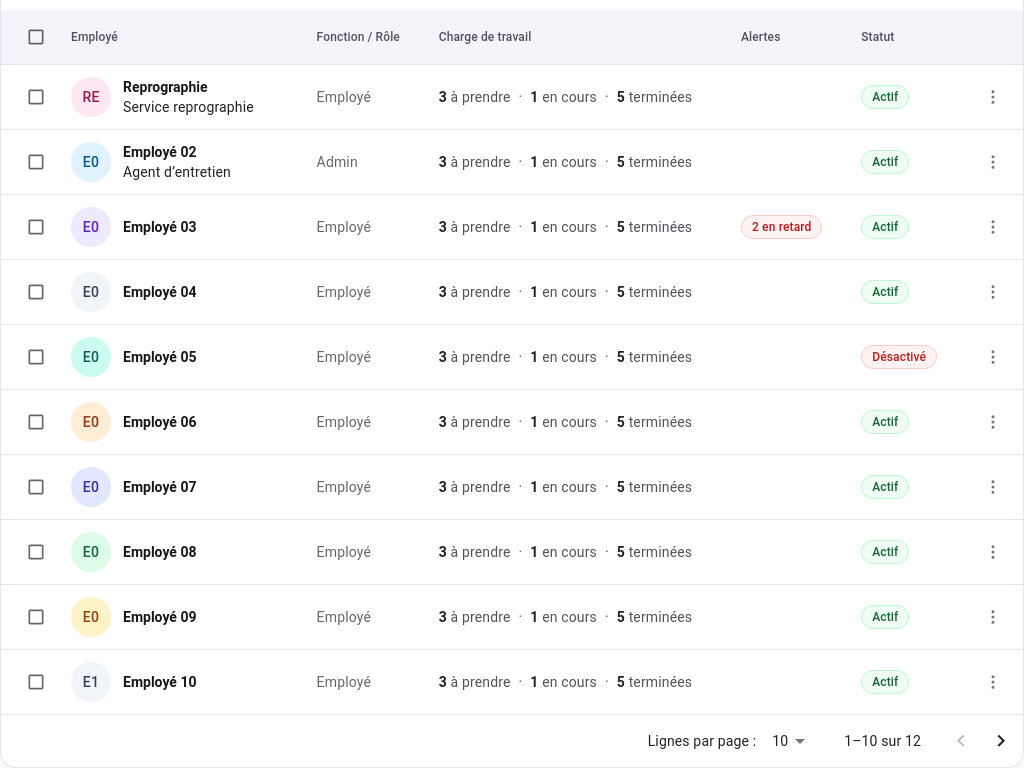
Test case: Onglet « Employés » › pagination en français : 1–10 sur 12, page suivante
(page scrolled)
Expected: the text "1–10 sur 12" is shown, [844, 731, 921, 751]
Expected: the text "Lignes par page :" is shown, [648, 731, 756, 751]
Click the button named "Page suivante" at (1001, 741), box [981, 721, 1021, 761]
(page scrolled)
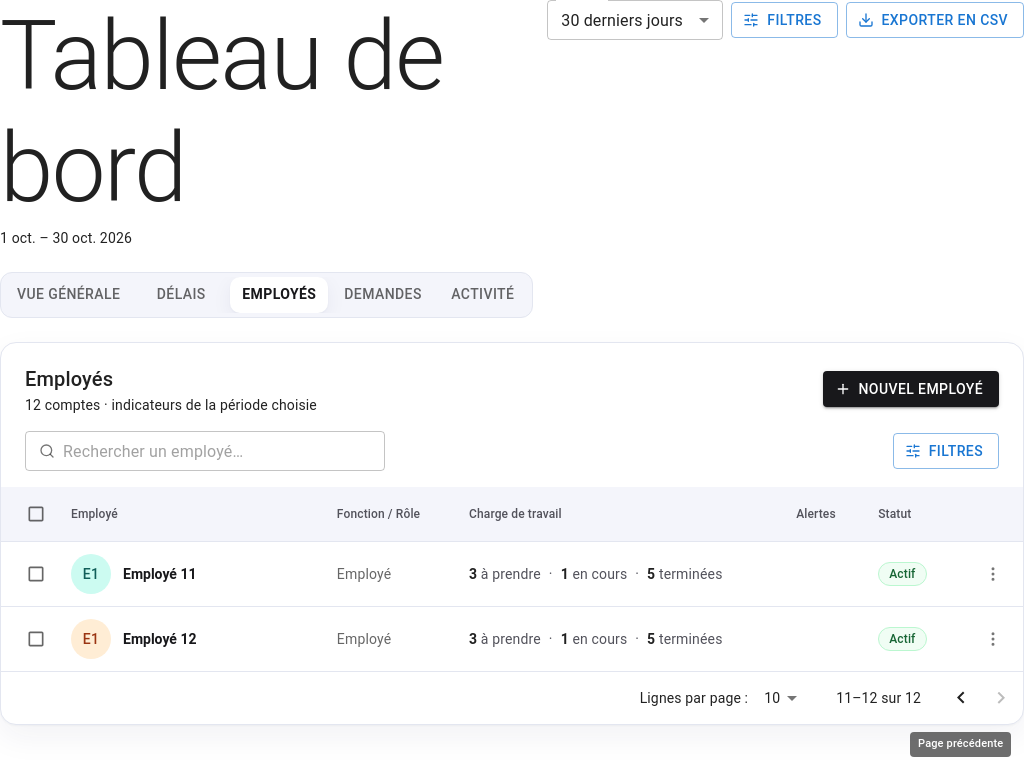
Expected: the text "11–12 sur 12" is shown, [836, 688, 921, 708]
